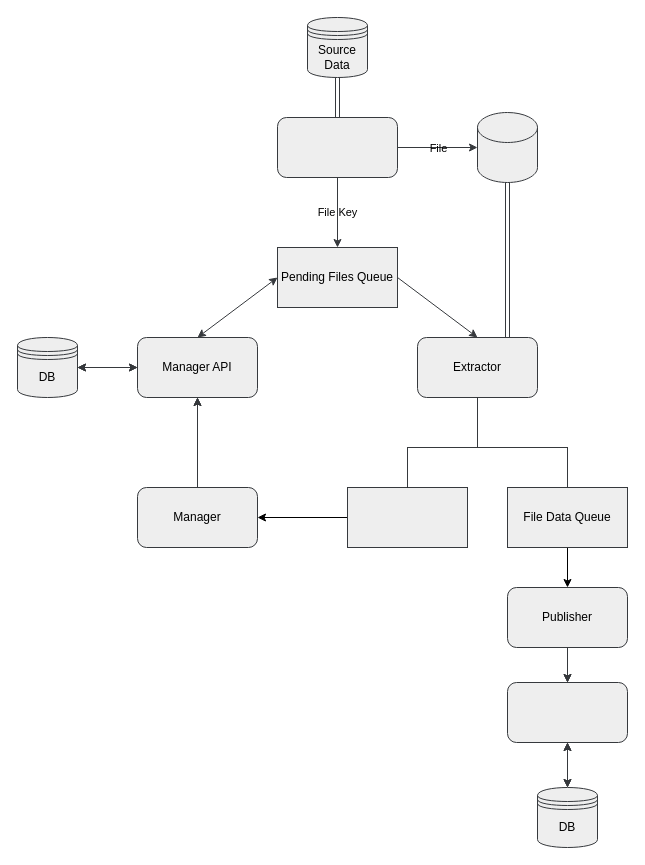
Some shapes in this 645 by 865 pixel diagram are drawn without their labels. Each missing label, with the box of its shape:
API: (506, 682, 628, 742)
Collector: (276, 116, 398, 178)
File Result Queue: (346, 486, 468, 548)
Storage: (476, 112, 538, 182)
